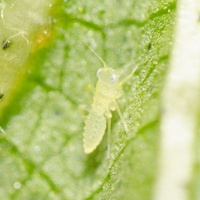insect: (83, 47, 137, 153)
